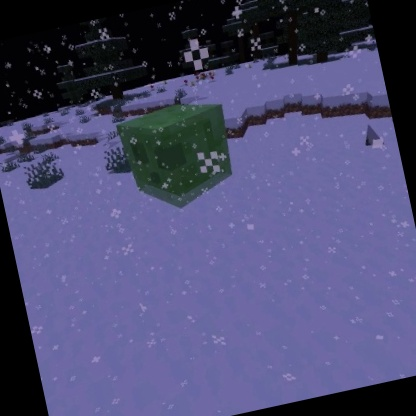slime: (111, 90, 246, 223)
